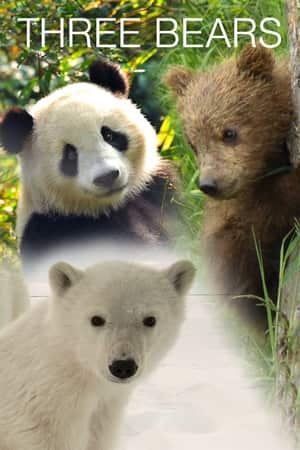bear: (163, 44, 299, 199)
